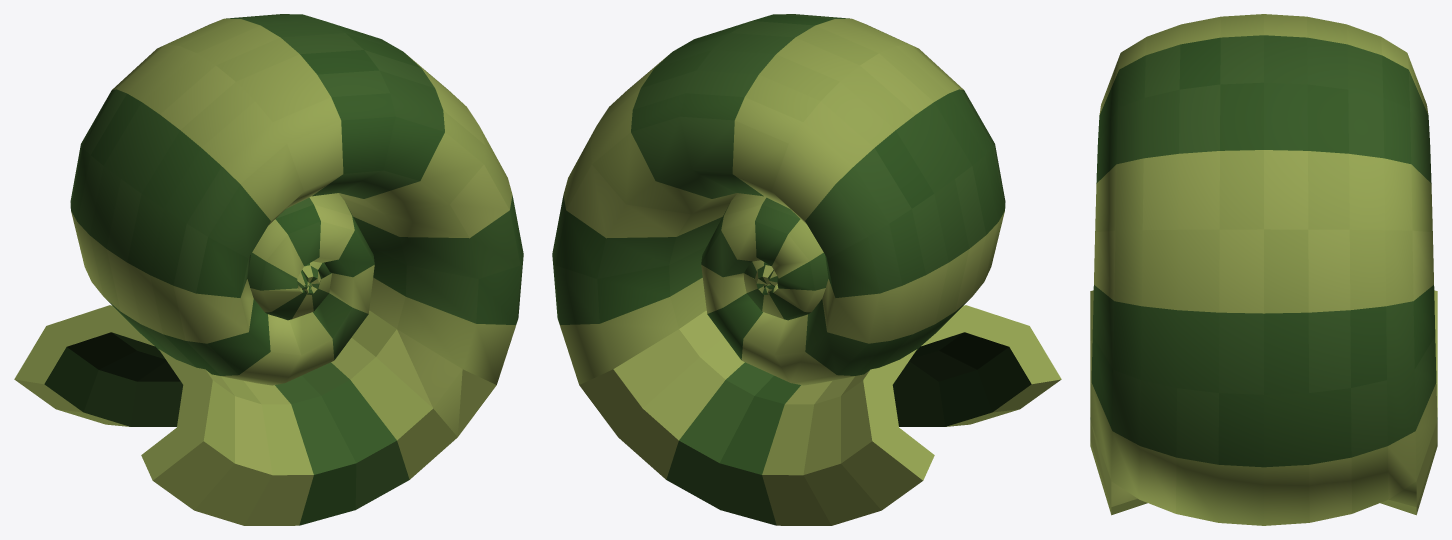
Rendered from Snail_Shell.glb.
3 renders of one model, left to right at view 1: azimuth 30°, elevation 25°; view 2: azimuth 150°, elevation 25°; view 3: azimuth 270°, elevation 25°, orthographic. The views are drawn at different scales.
Parts seen in each view (by area): view 1: snail.authored_shell; view 2: snail.authored_shell; view 3: snail.authored_shell.
Part boxes in pixels (left/top/right/bottom): snail.authored_shell: left=14, top=14, right=523, bottom=525; snail.authored_shell: left=552, top=14, right=1061, bottom=525; snail.authored_shell: left=1090, top=14, right=1437, bottom=525.
Size of the model in its own units: 1 by 0.9993 by 0.6706.
